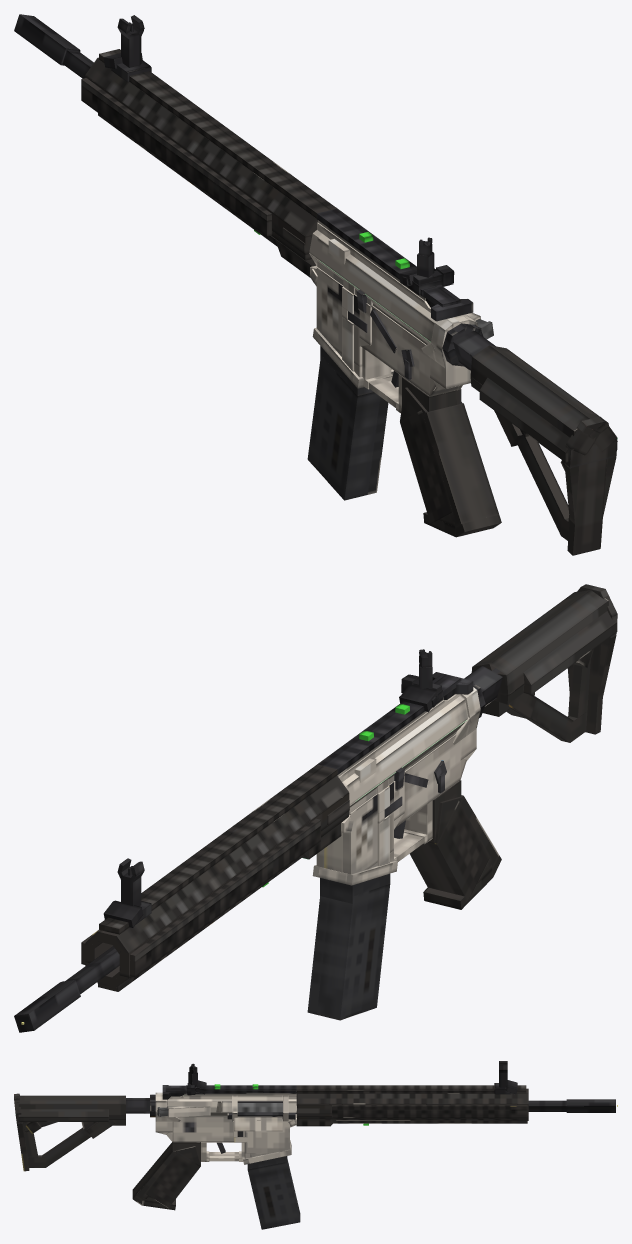
Rendered from star15.obj.
3 views of the same model, one above another, from view 1: azimuth 30°, elevation 25°; view 2: azimuth 150°, elevation 25°; view 3: azimuth 270°, elevation 25° (orthographic). The views are drawn at different scales.
Parts seen in each view (by area): view 1: gun, stock, magazine_4, rearsightbase_5, frontsight_6; view 2: gun, stock, magazine_4, rearsightbase_5, frontsight_6; view 3: gun, stock, magazine_4, bolt_1, rearsightbase_5.
Part boxes in pixels (<box>): gun: <box>14,14,501,537</box>; stock: <box>470,345,617,555</box>; magazine_4: <box>307,345,388,500</box>; rearsightbase_5: <box>399,237,454,295</box>; frontsight_6: <box>117,15,144,67</box>; gun: <box>14,666,502,1032</box>; stock: <box>471,584,617,742</box>; magazine_4: <box>307,873,390,1020</box>; rearsightbase_5: <box>399,649,442,712</box>; frontsight_6: <box>117,858,144,906</box>; gun: <box>126,1080,615,1210</box>; stock: <box>14,1093,125,1171</box>; magazine_4: <box>247,1156,300,1229</box>; bolt_1: <box>237,1103,282,1112</box>; rearsightbase_5: <box>187,1063,206,1095</box>.
Bounding box in the file's own units: 0.423 × 1.98 × 6.68.
